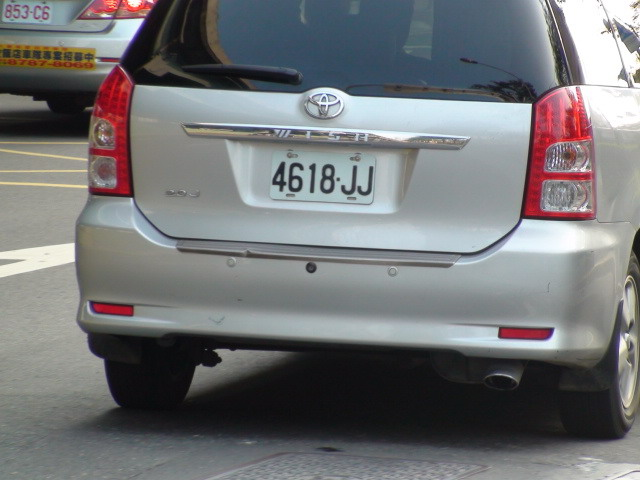plate: (268, 149, 378, 207), (3, 1, 55, 25)
